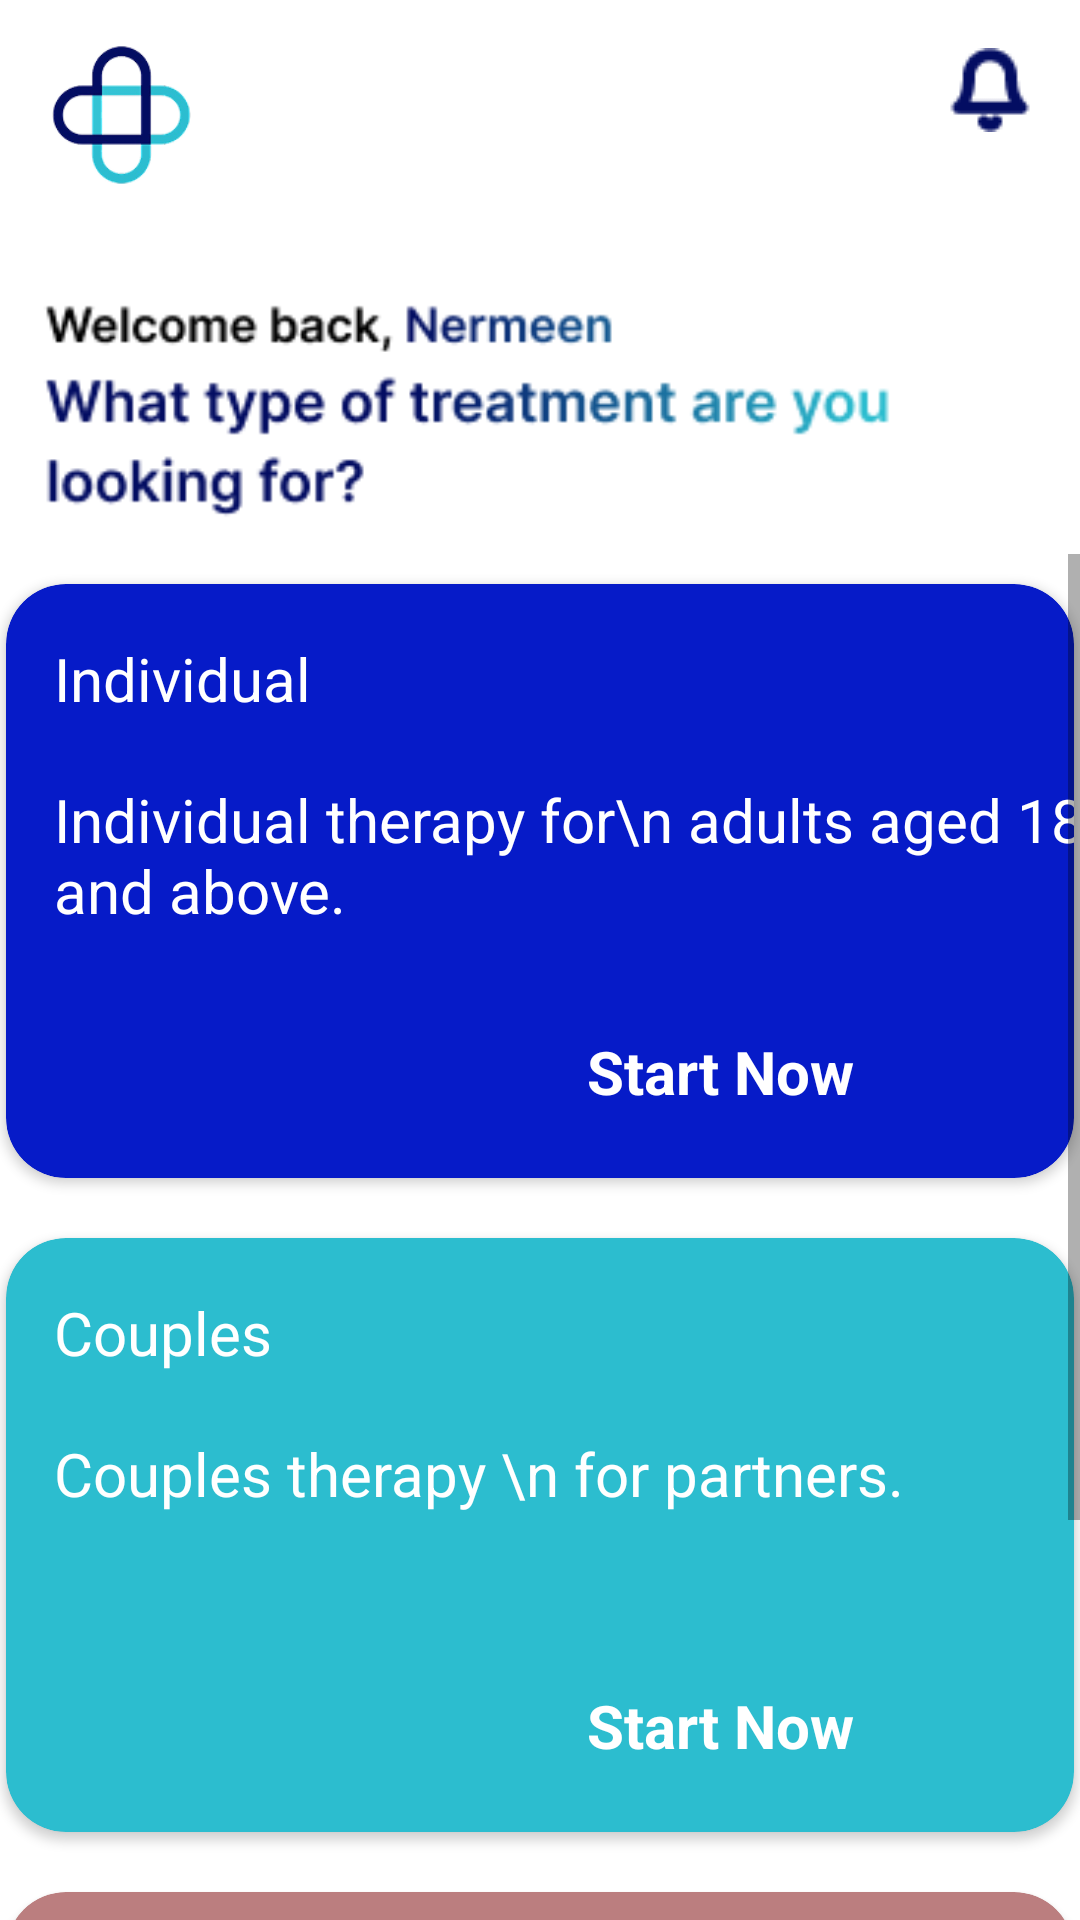

Where icons sit on this 1080x1920 app screen, as bbox(x1, y1, x2, y2):
bell: bbox(950, 48, 1030, 132)
medicare: bbox(53, 46, 190, 184)
